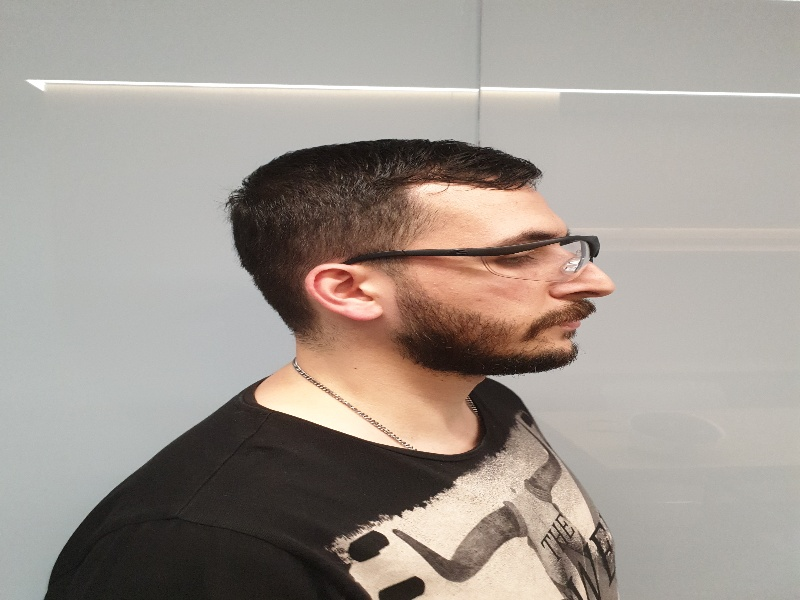Gozluk: (332, 234, 599, 276)
